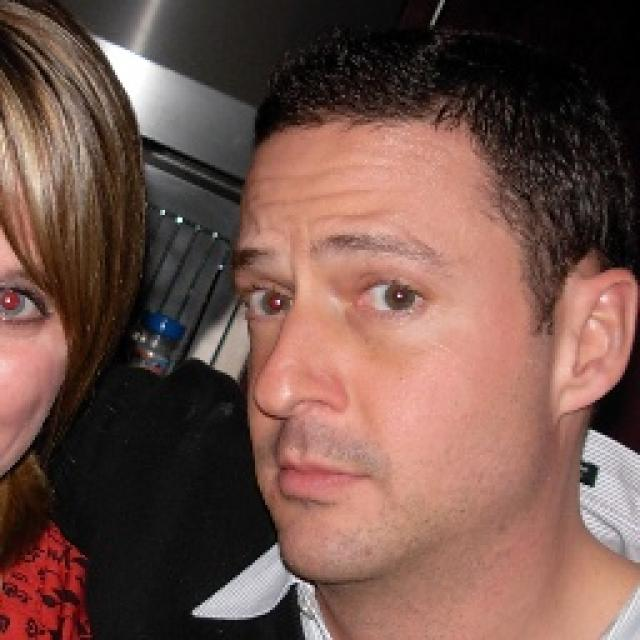earlobe: (553, 368, 599, 418)
eye: (346, 276, 434, 318), (244, 286, 292, 320)
nose: (255, 394, 352, 438)
wholeear: (553, 269, 639, 418)
